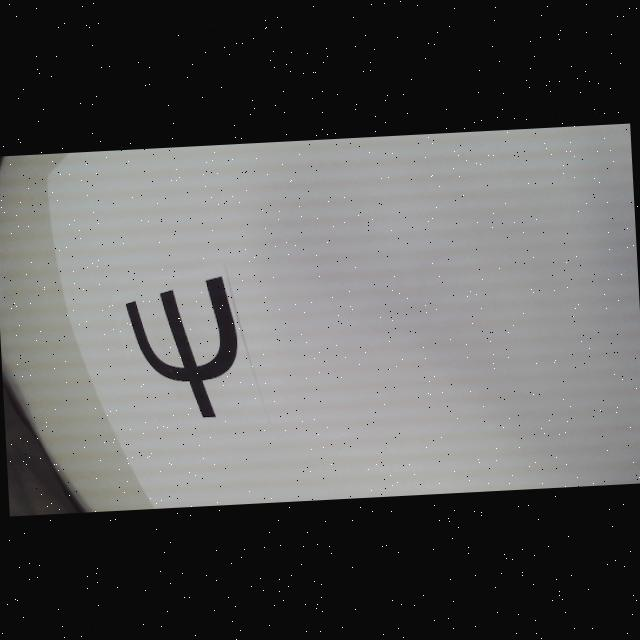PSI: (125, 275, 242, 421)
